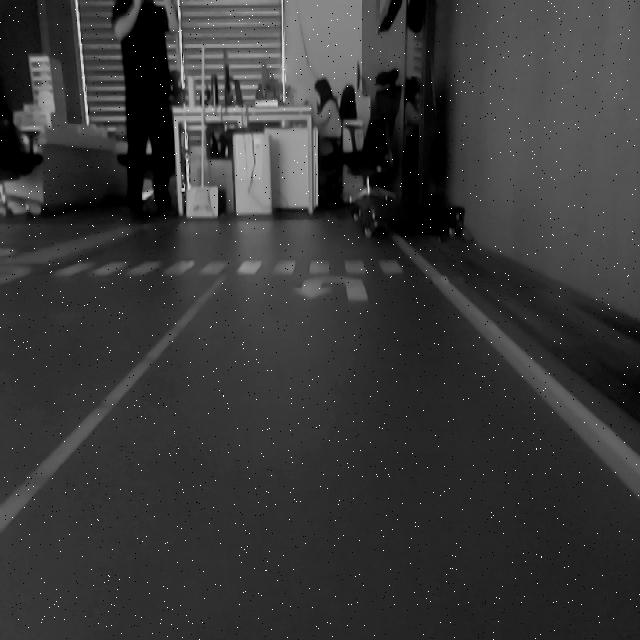left_lane: (0, 274, 227, 533)
right_lane: (397, 246, 640, 499)
